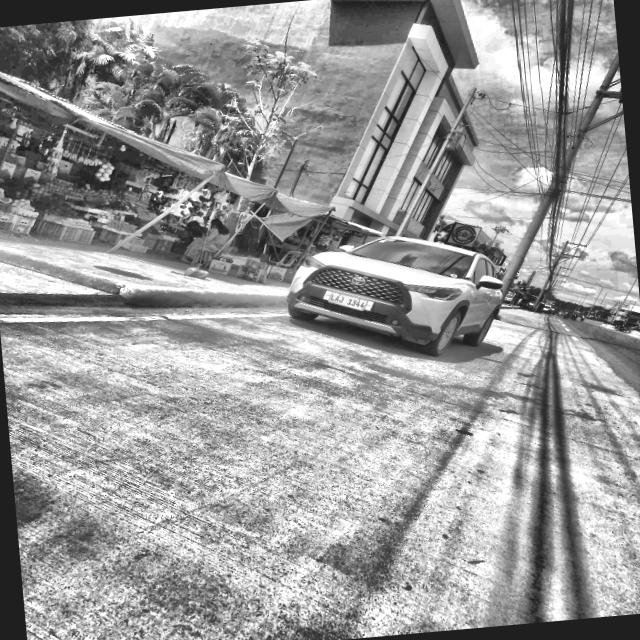license-plate: (328, 290, 369, 312)
